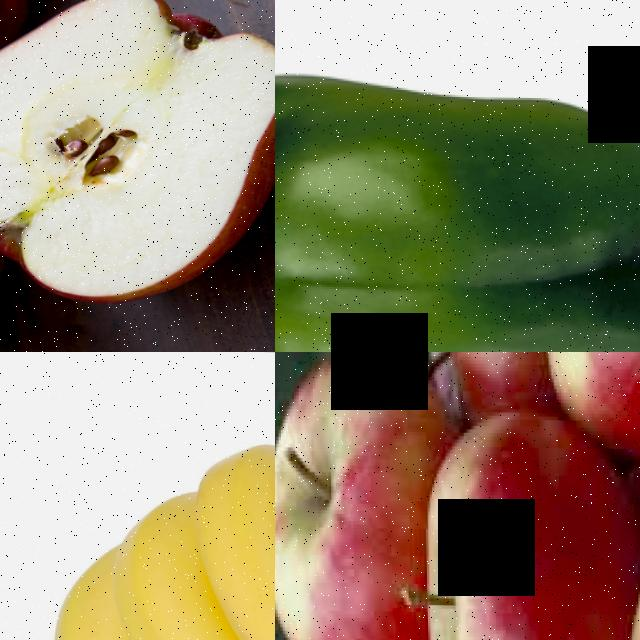apple: (0, 0, 275, 308), (398, 412, 634, 640), (275, 352, 428, 640), (539, 352, 640, 449), (433, 352, 541, 432)
banana: (12, 369, 275, 640)
bell pepper: (275, 2, 640, 352)
